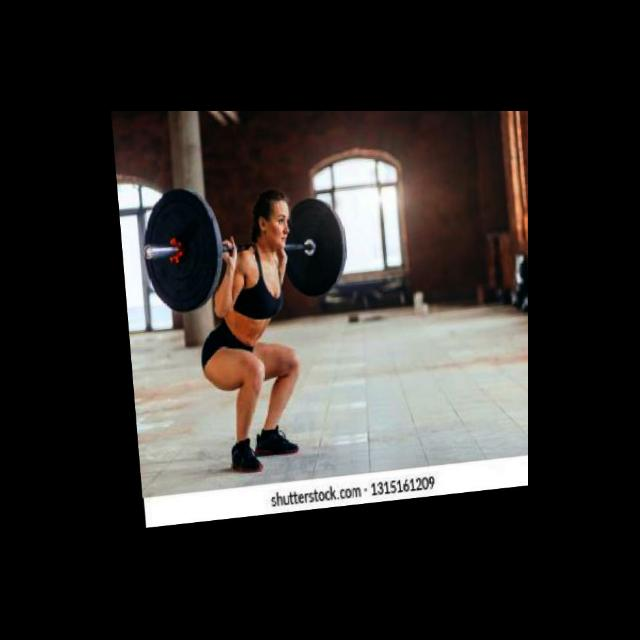barbell: (134, 185, 223, 318)
